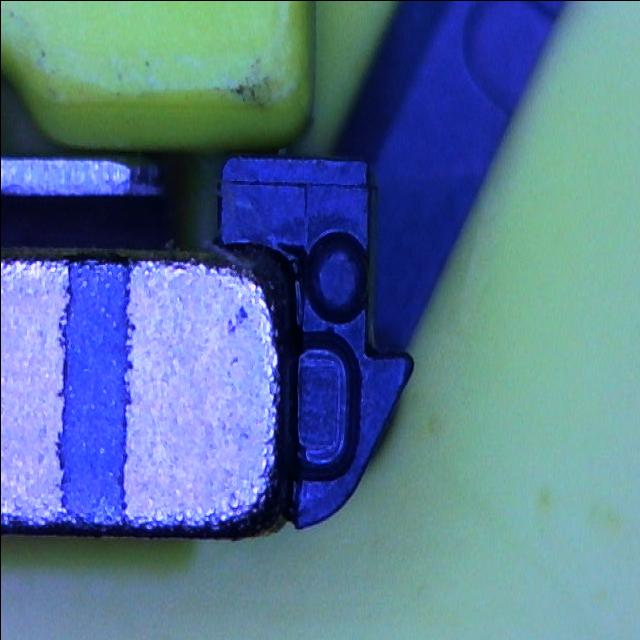lacking: (286, 331, 361, 485)
